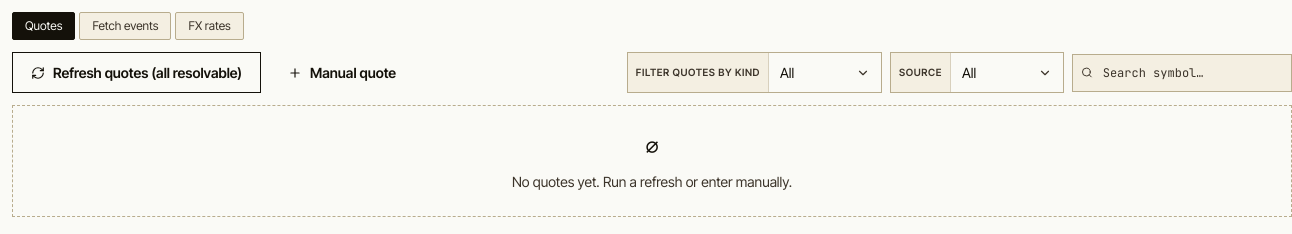
InstrumentsMarketData sub-tab switching › switches to Fetch events sub-tab
Click the tab "Fetch events" at (125, 26), box [79, 12, 171, 40]
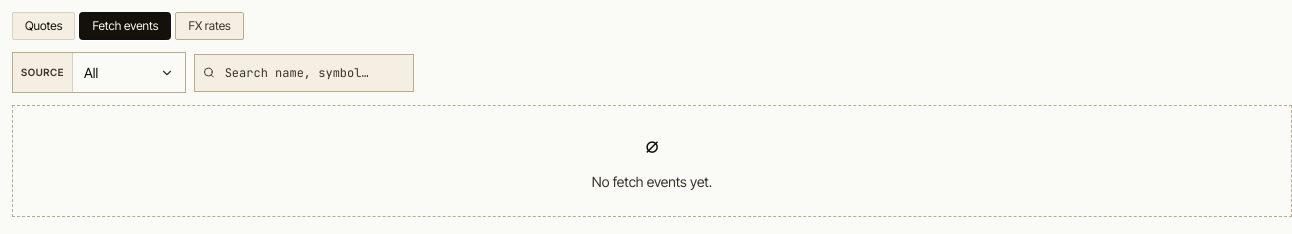
Expected: the button "Refresh quotes" is gone
